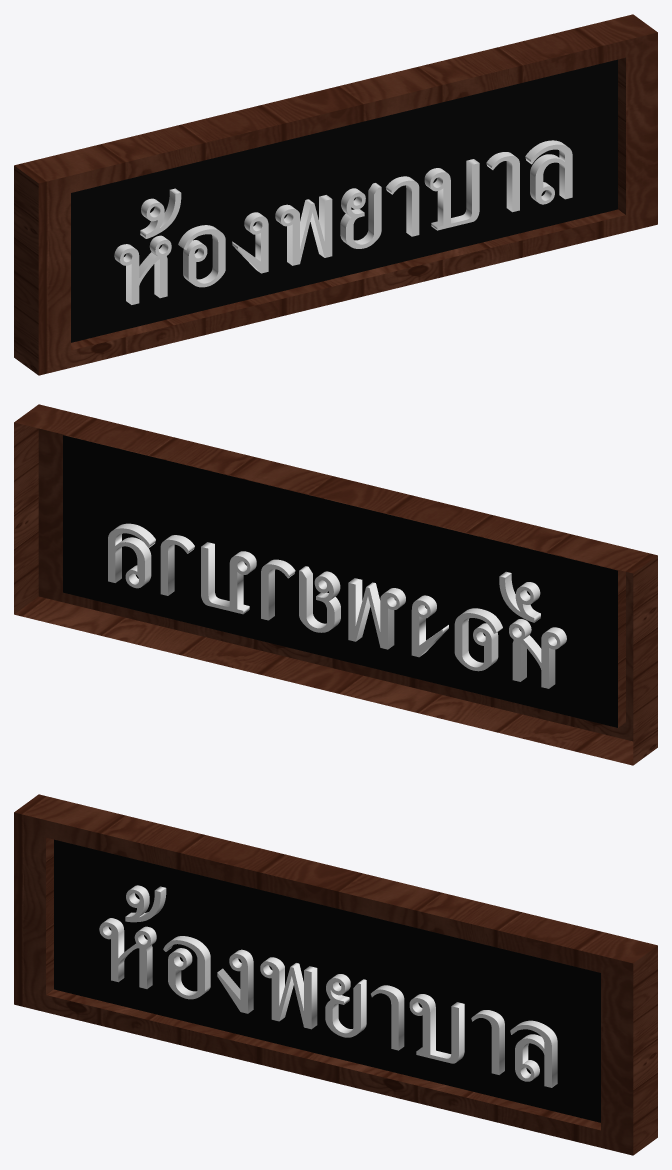
The model's file is Nsign.fbx.
The picture shows the model from 3 angles, top to bottom: view 1: azimuth 30°, elevation 25°; view 2: azimuth 150°, elevation 25°; view 3: azimuth 330°, elevation 25°; orthographic projection.
Parts seen in each view (by area): view 1: RoomName.001, Nsign; view 2: RoomName.001, Nsign; view 3: RoomName.001, Nsign.
Part boxes in pixels (x1,y1,x2,y2): RoomName.001: (14,14,657,375); Nsign: (114,140,572,304); RoomName.001: (14,404,657,765); Nsign: (108,523,566,688); RoomName.001: (14,794,657,1155); Nsign: (99,885,557,1087).
Bounding box in the file's own units: 1169 × 347 × 81.09.
